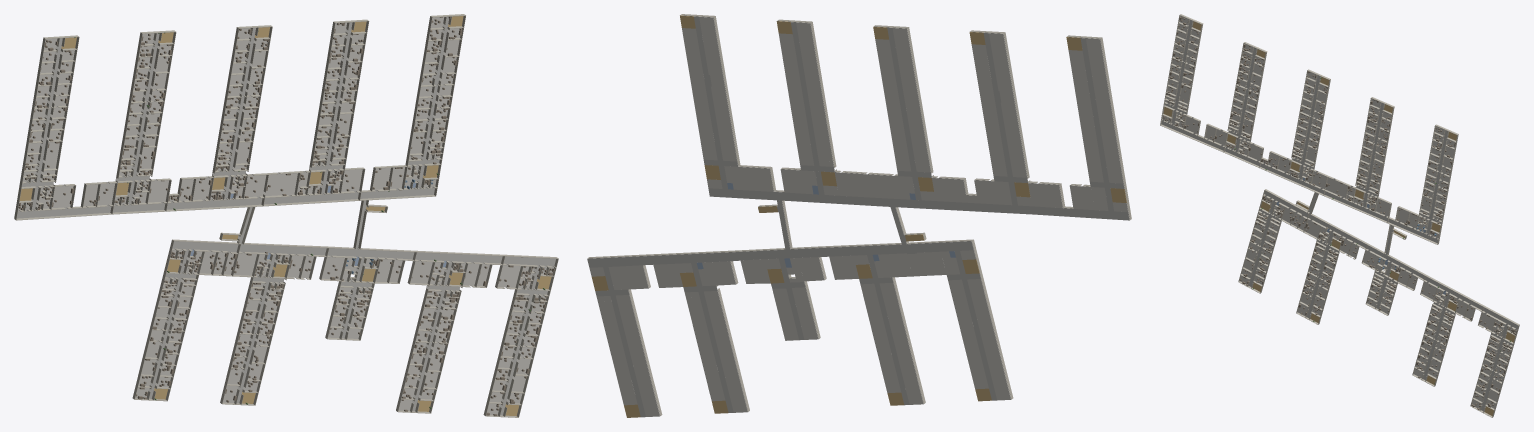
File: floor-4-53ef27b19803.glb
3 views of the same model, side by side, from view 1: azimuth 30°, elevation 25°; view 2: azimuth 150°, elevation 25°; view 3: azimuth 330°, elevation 25° (orthographic). The views are drawn at different scales.
Parts seen in each view (by area): view 1: osm-way27917482-F3; view 2: osm-way27917482-F3; view 3: osm-way27917482-F3.
Part boxes in pixels (x1,y1,x2,y2): osm-way27917482-F3: (14, 14, 558, 417); osm-way27917482-F3: (587, 14, 1131, 417); osm-way27917482-F3: (1160, 14, 1519, 417).
Bounding box in the file's own units: 191 × 166 × 1.35.
